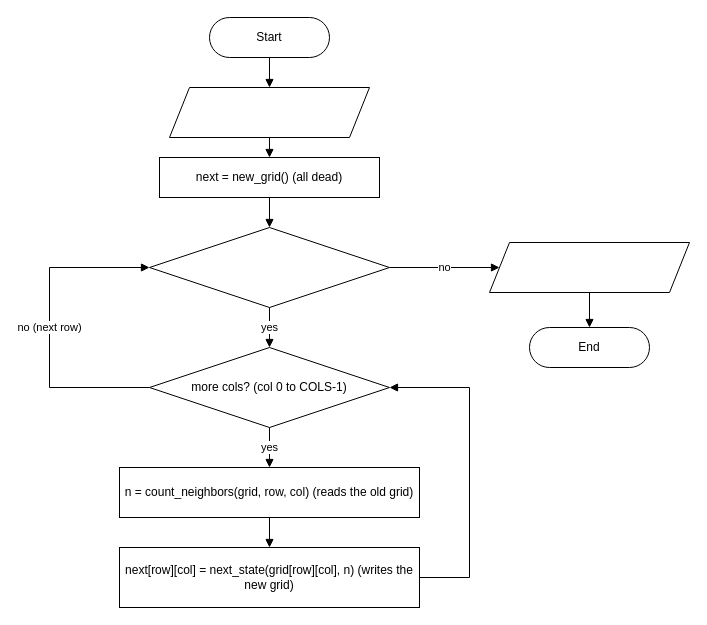
Some shapes in this 707 by 625 pixel diagram are drawn without their labels. Each missing label, with the centre of its shape:
Input: grid: (x=269, y=112)
more rows? (row 0 to ROWS-1): (x=269, y=267)
Output: next: (x=589, y=267)
